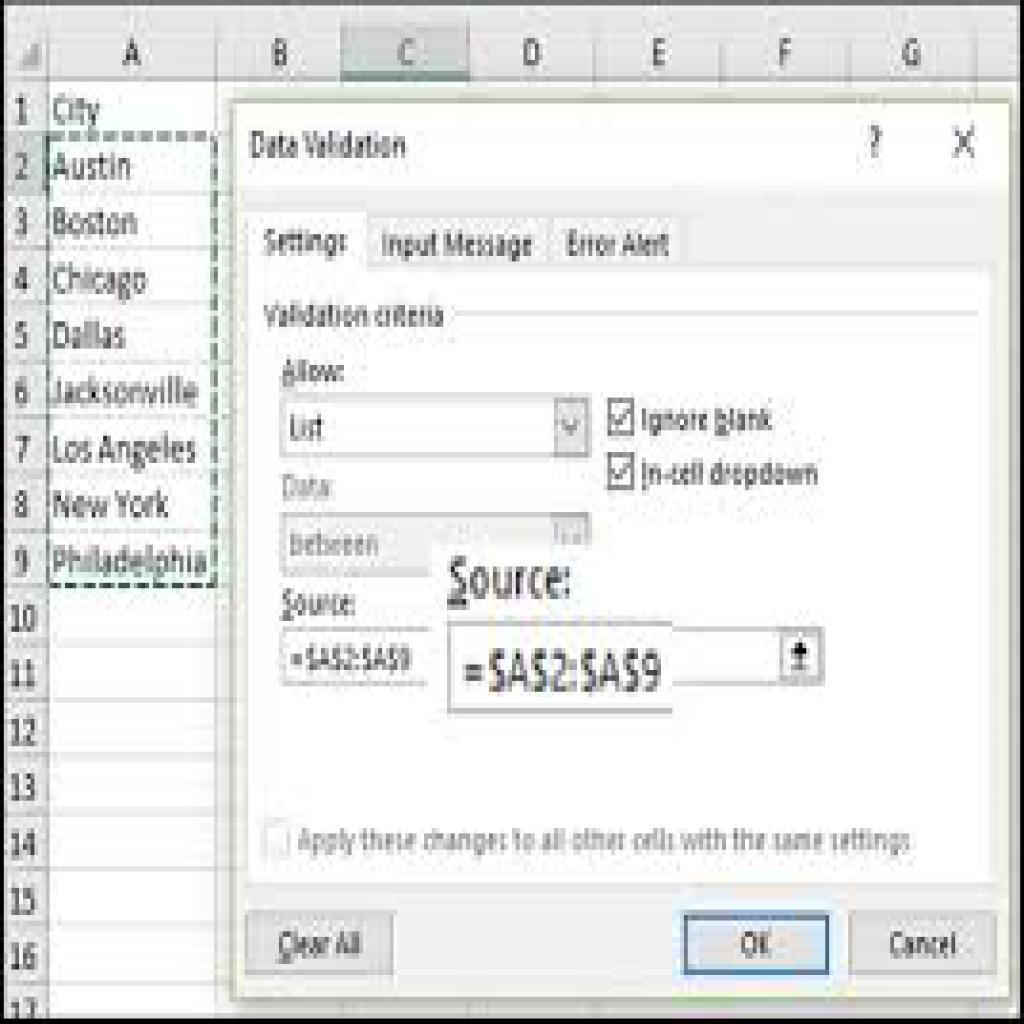button: (245, 908, 395, 977), (848, 911, 1002, 974), (687, 912, 831, 978), (371, 223, 552, 267), (250, 211, 370, 267), (554, 222, 685, 267)
checkbox: (608, 400, 636, 437), (608, 452, 635, 487)
dropdown: (281, 399, 590, 460)
icon: (861, 118, 892, 169), (947, 121, 981, 163)
label: (297, 822, 919, 861), (637, 450, 828, 492), (245, 127, 417, 169), (640, 402, 776, 442)
table: (11, 23, 219, 592)
